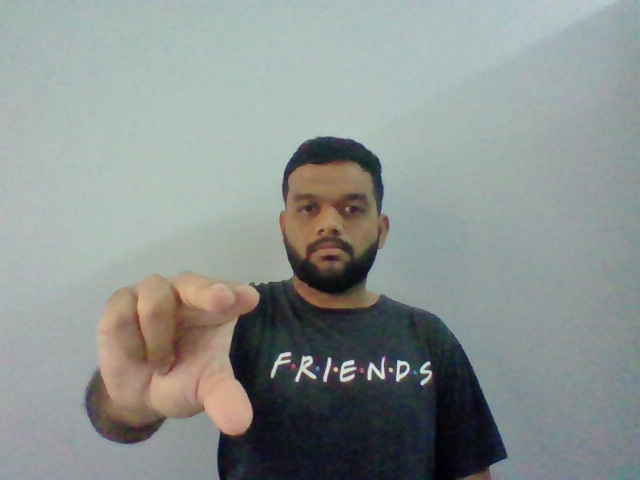No: (96, 267, 260, 438)
